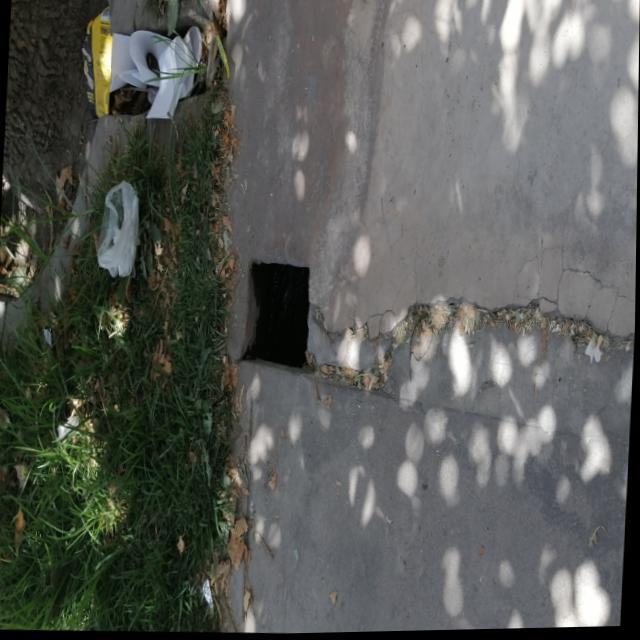hole: (240, 253, 320, 386)
